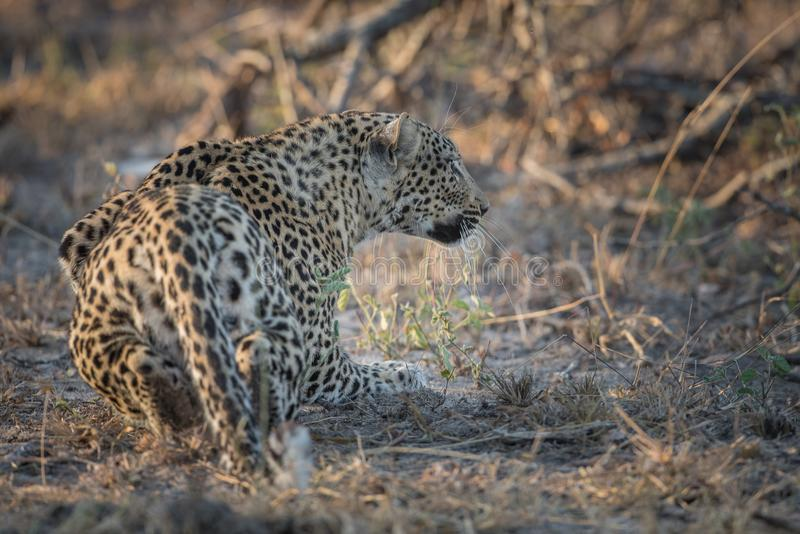leopard: (61, 101, 498, 456)
